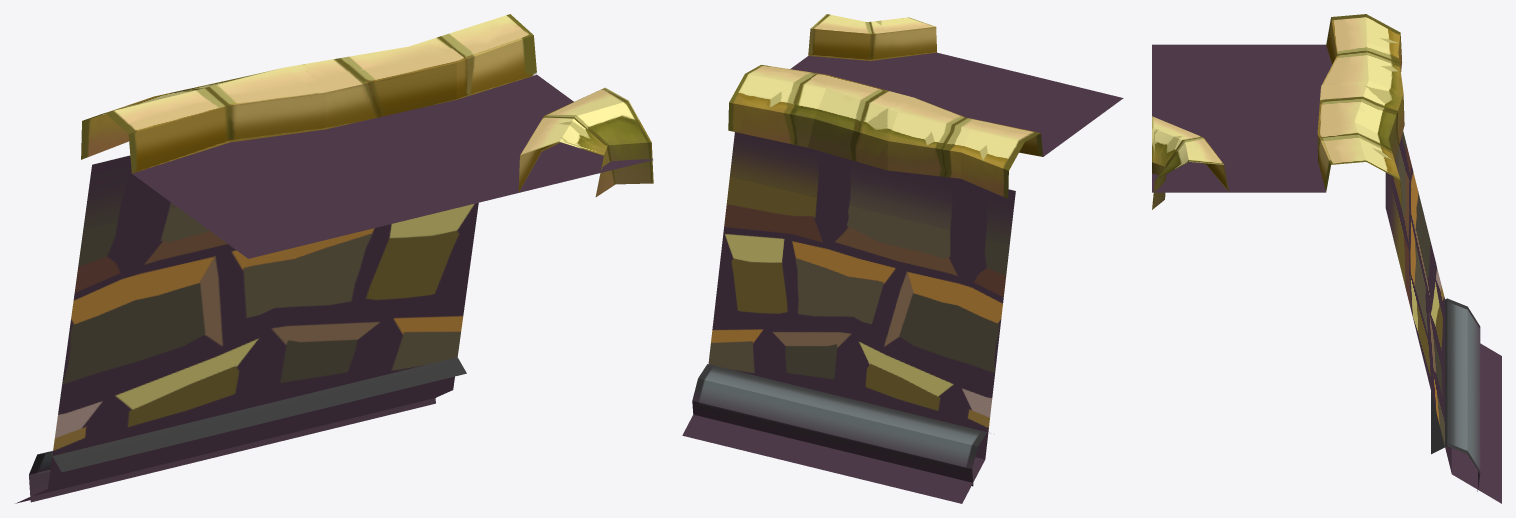
File: Int_43.fbx
3 views of the same model, side by side, from view 1: azimuth 30°, elevation 25°; view 2: azimuth 150°, elevation 25°; view 3: azimuth 270°, elevation 25° (orthographic). The views are drawn at different scales.
Parts seen in each view (by area): view 1: Int_43; view 2: Int_43; view 3: Int_43.
Boxes of the visible parts, x1,y1,x2,y2 form: Int_43: [15, 14, 653, 503]; Int_43: [682, 14, 1123, 503]; Int_43: [1152, 14, 1501, 503].
Size of the model in its own units: 1 by 1.08 by 1.
